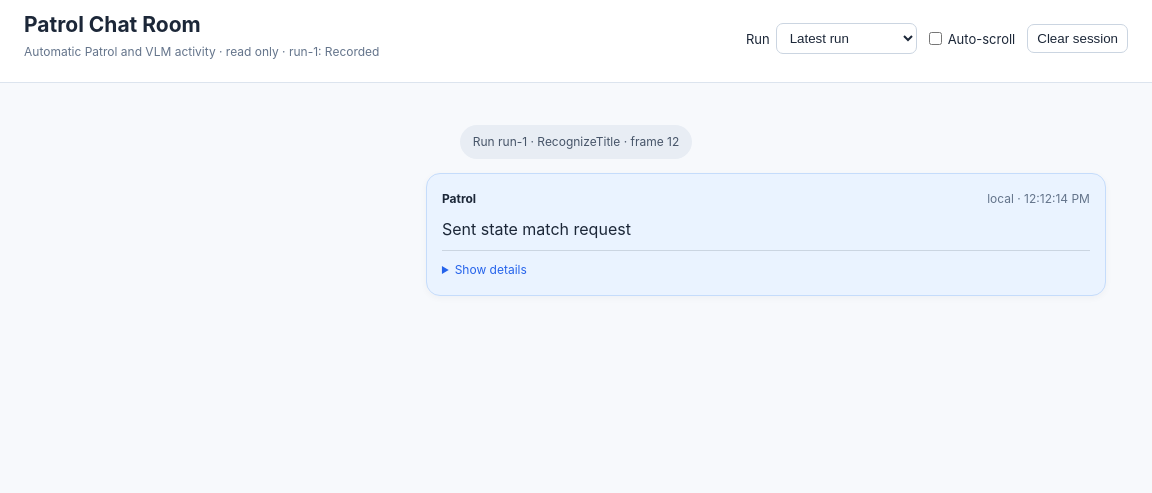
Patrol Chat Room › explains when an expanded image was evicted from the session cache
This screenshot has width=1152, height=493.
Click the heading "Show details".
click(491, 270)  # box [455,262,527,277]
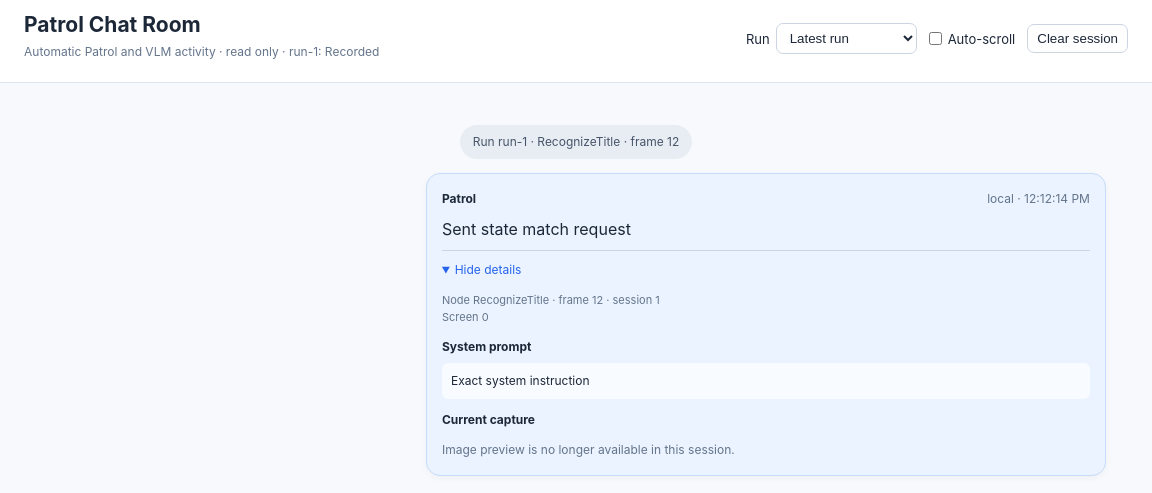
Expected: the message shows "Image preview is no longer available", [442,442,735,457]
